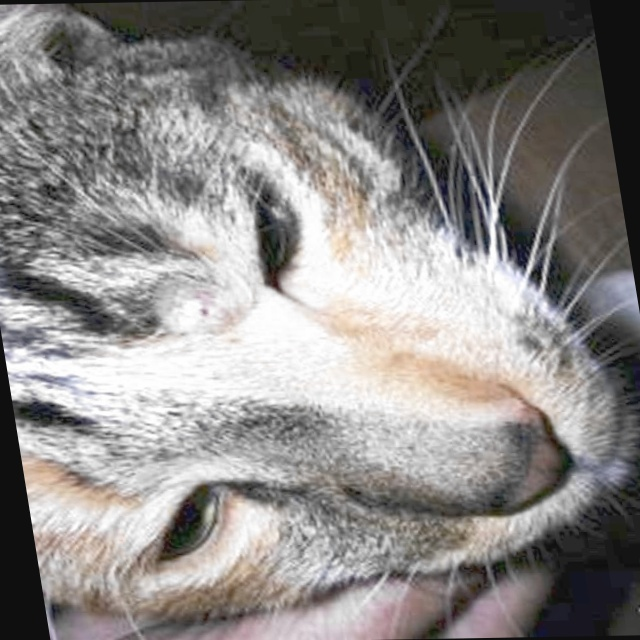lump_and_bump: (155, 278, 244, 333)
